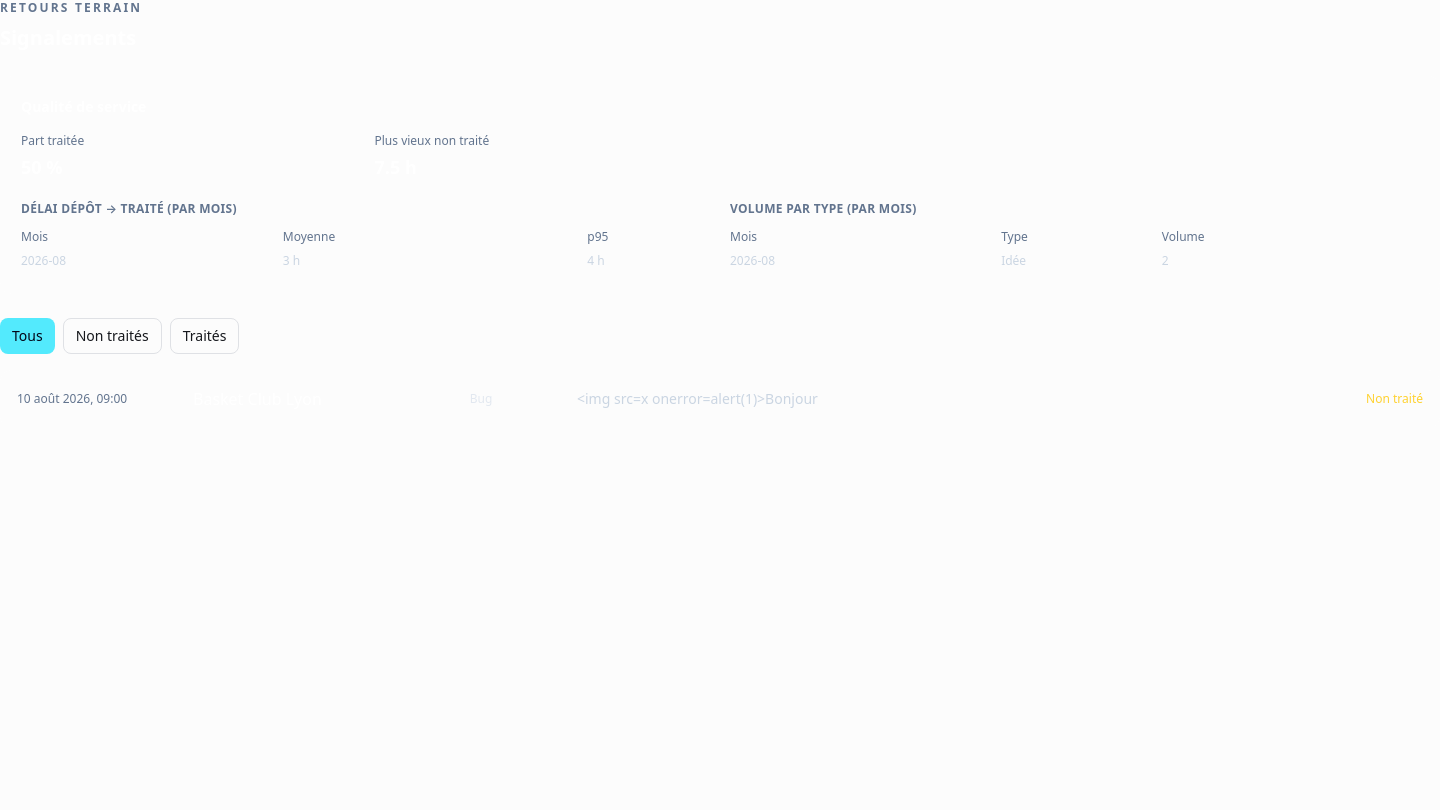
FeedbackSection › rend le message du détail en texte pur (HTML échappé, jamais interprété)
Click the button with aria-label "voir le signalement de basket club lyon": (720, 399) [1,371,1439,427]
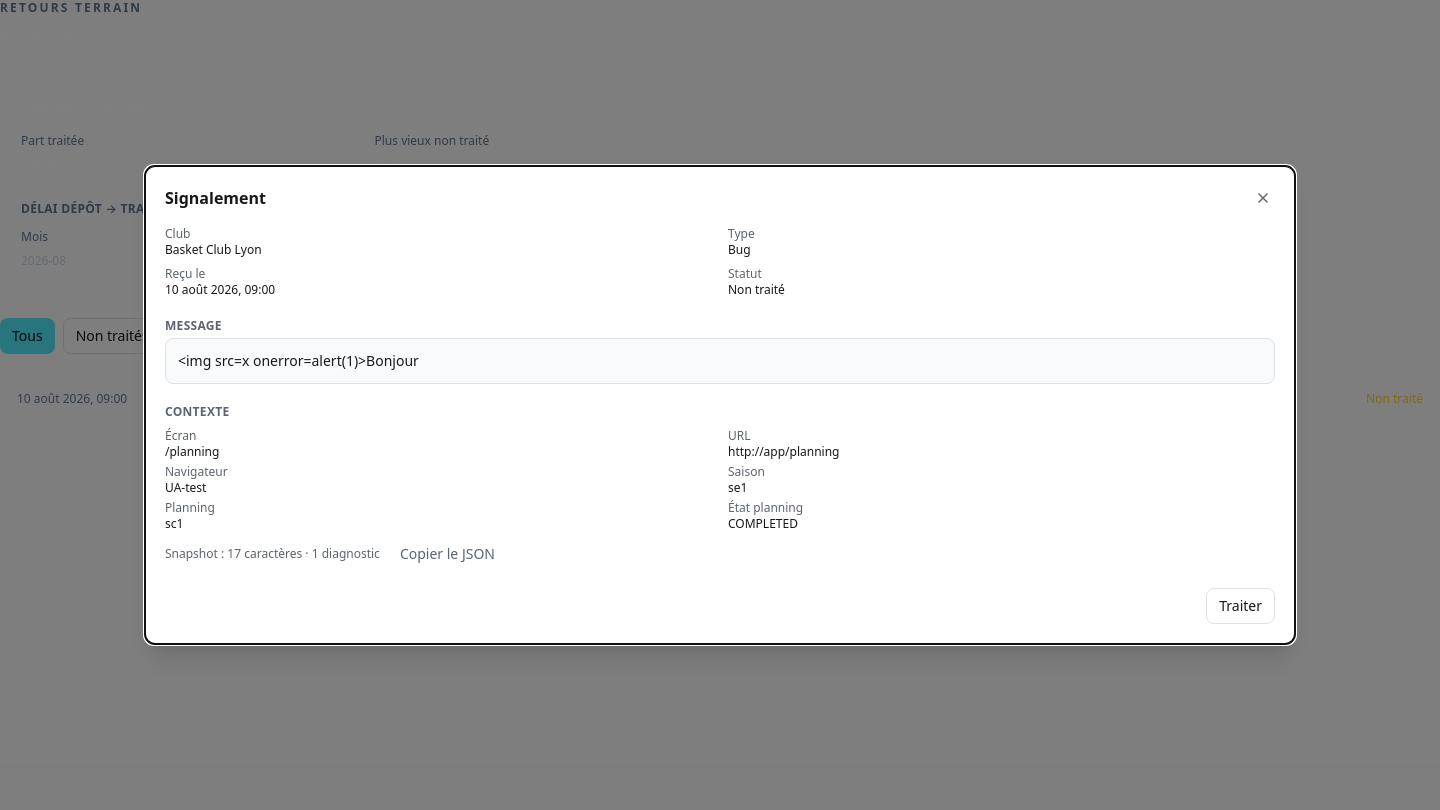
Result: the text "<img src=x onerror=alert(1)>Bonjour" is shown at [165,338,1275,384]
